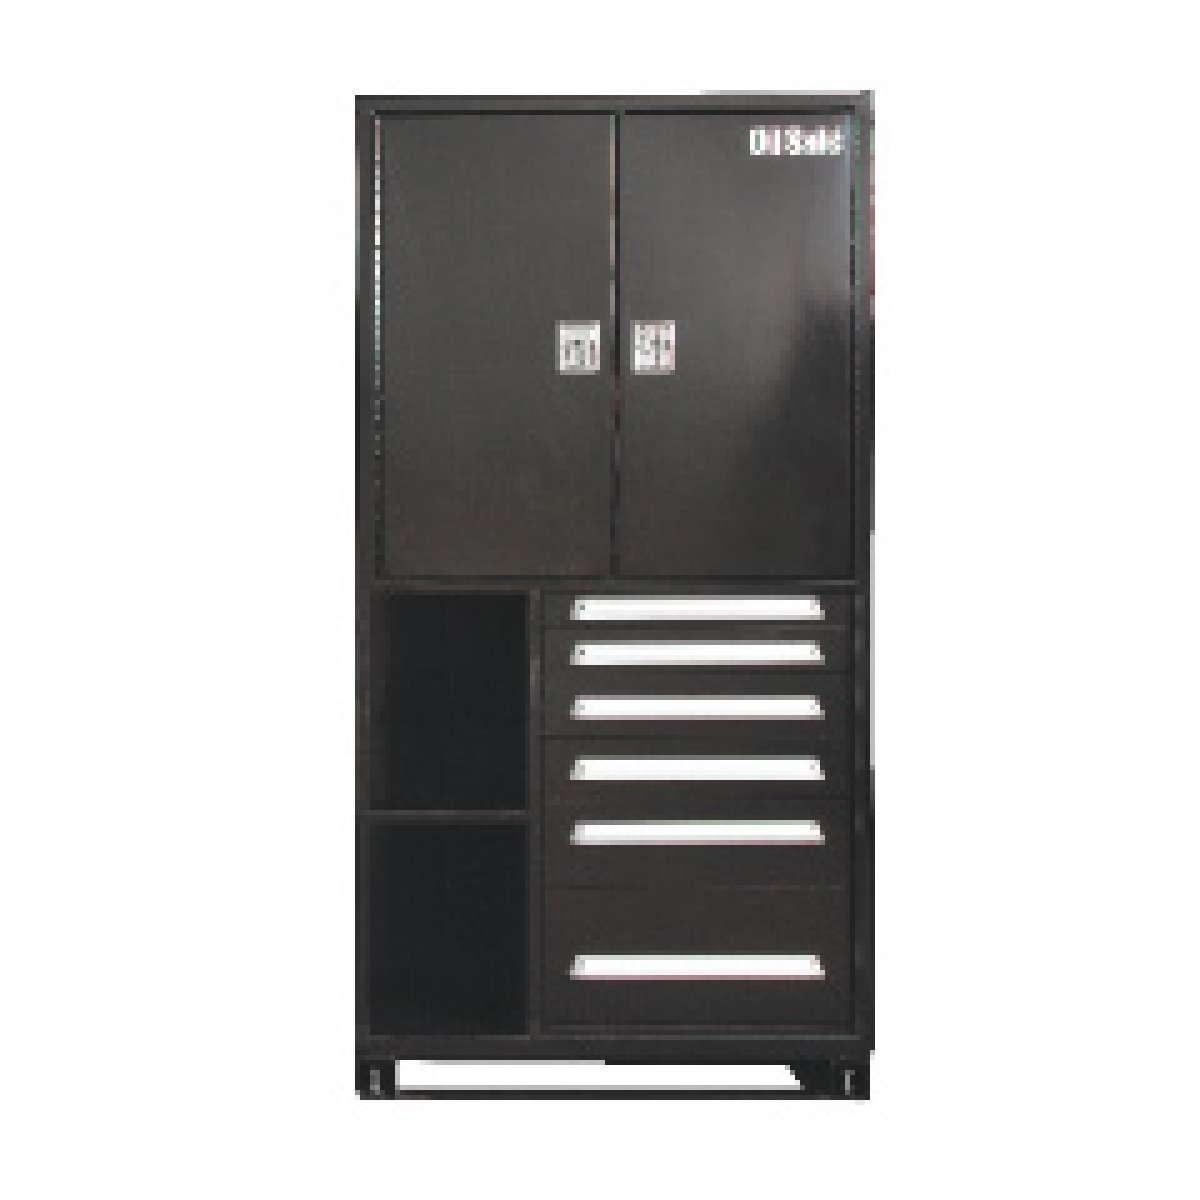cabinet_door: (378, 114, 624, 578), (620, 122, 856, 564)
